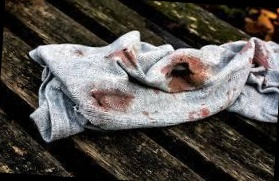blood: (163, 56, 207, 94), (91, 87, 137, 112), (107, 46, 137, 67), (252, 46, 272, 68)
